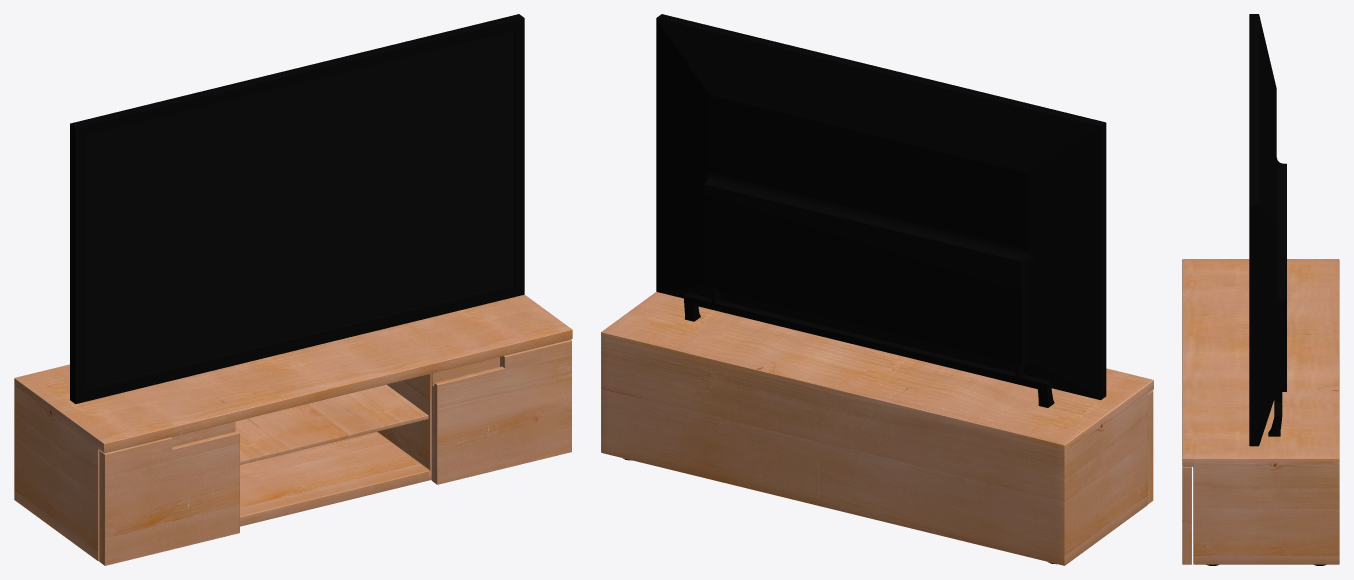
Rendered from SM_Living_TVset_50Inch.fbx.
3 renders of one model, left to right at view 1: azimuth 30°, elevation 25°; view 2: azimuth 150°, elevation 25°; view 3: azimuth 270°, elevation 25°, orthographic. The views are drawn at different scales.
Parts seen in each view (by area): view 1: TVSet_50Inch; view 2: TVSet_50Inch; view 3: TVSet_50Inch.
Part boxes in pixels (x1,y1,x2,y2): TVSet_50Inch: [14, 14, 572, 565]; TVSet_50Inch: [601, 14, 1153, 565]; TVSet_50Inch: [1182, 14, 1339, 565].
Size of the model in its own units: 1.2 by 0.4 by 1.01.
